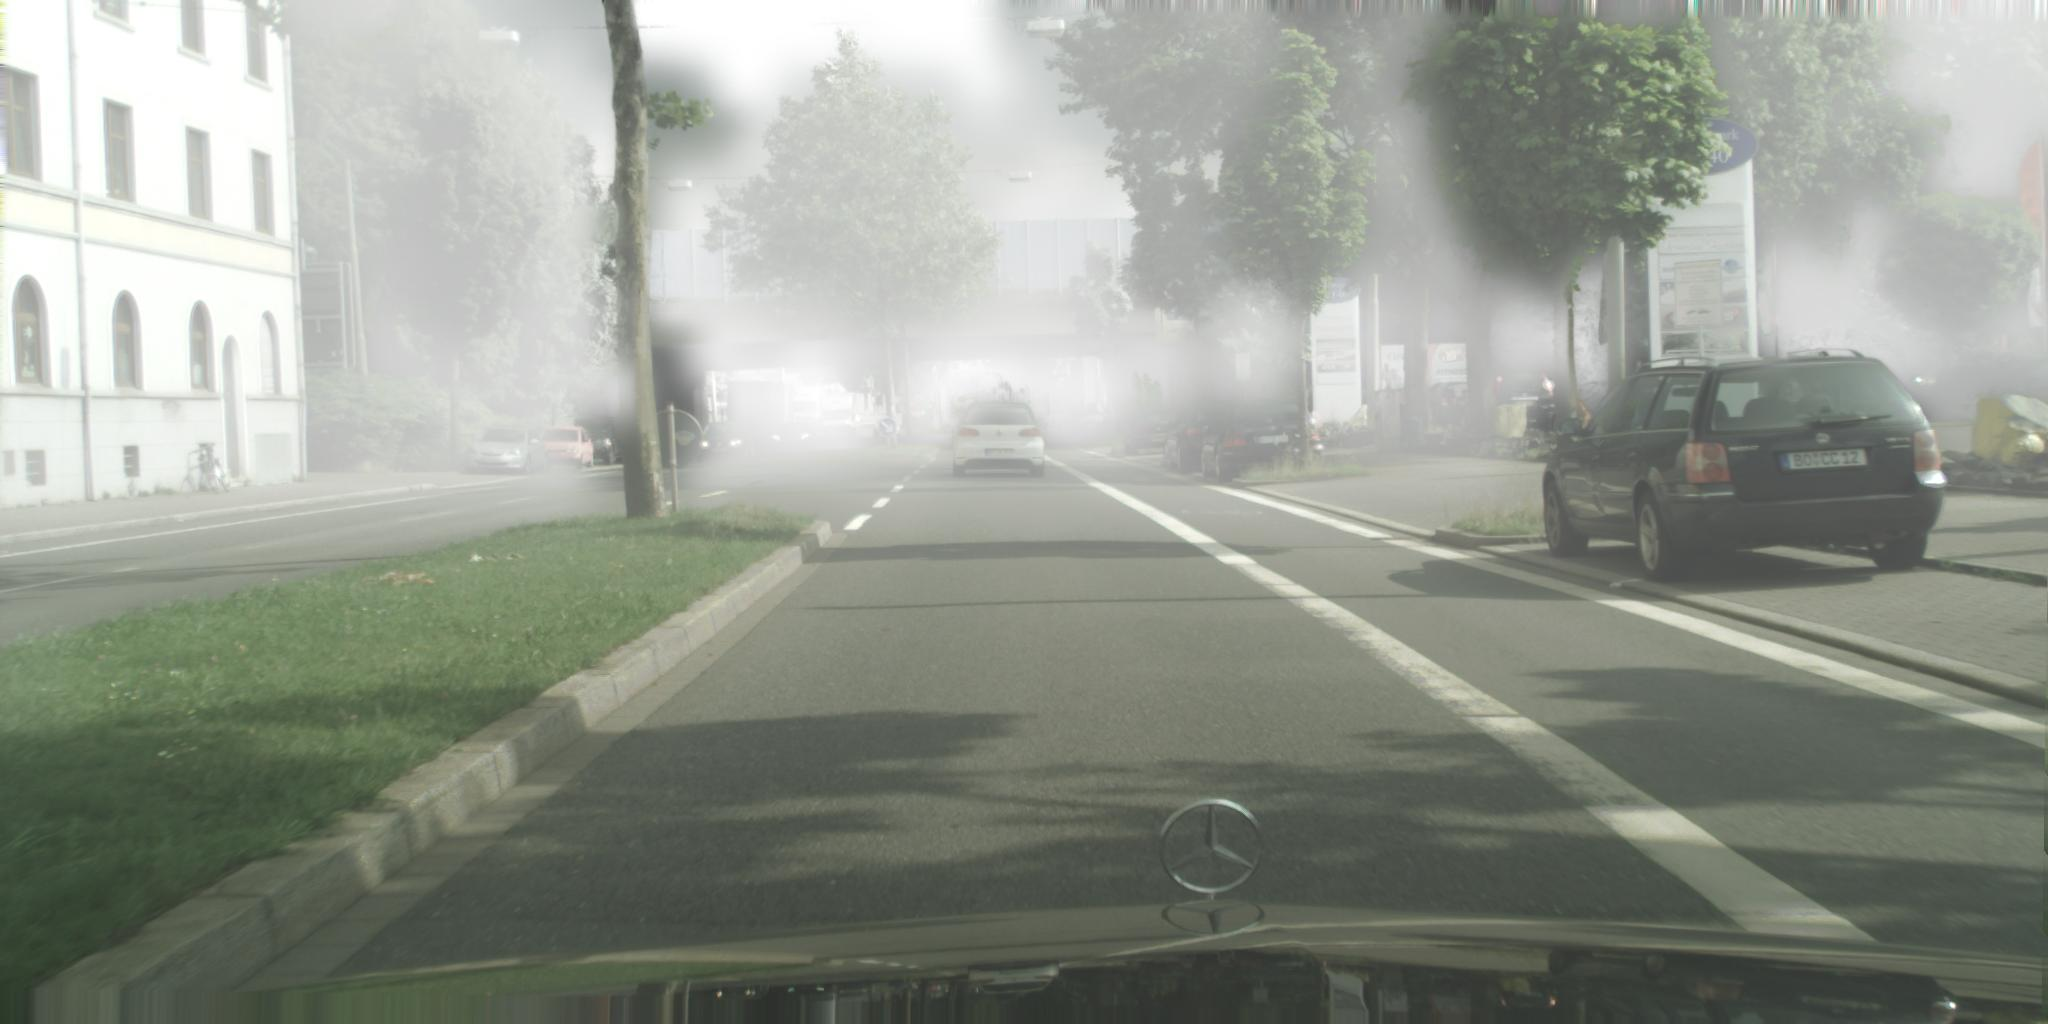car: (1543, 349, 1951, 584), (1202, 394, 1327, 483), (944, 404, 1050, 478), (1164, 398, 1262, 473), (1959, 358, 2048, 423), (1475, 368, 1563, 432), (466, 428, 549, 477), (1121, 409, 1192, 458), (575, 417, 637, 466), (530, 426, 597, 470), (688, 421, 755, 464), (1578, 379, 1616, 432), (771, 423, 820, 451), (1068, 413, 1109, 443), (1889, 371, 1937, 391), (1058, 411, 1091, 440), (1049, 413, 1074, 439), (872, 418, 903, 439), (1044, 413, 1068, 436), (900, 406, 923, 423), (967, 398, 985, 418), (891, 402, 910, 415), (916, 404, 929, 421), (920, 402, 936, 413)
truck: (793, 387, 831, 439), (818, 394, 856, 440)
